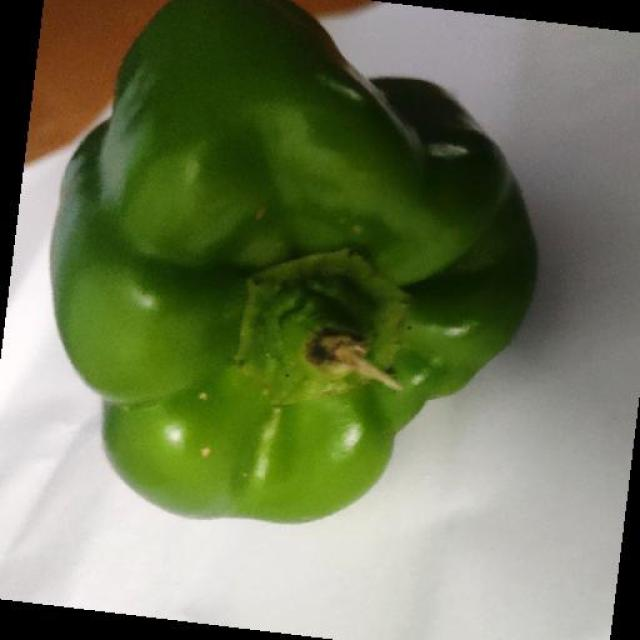Fresh_Capsicum: (157, 130, 456, 510)
